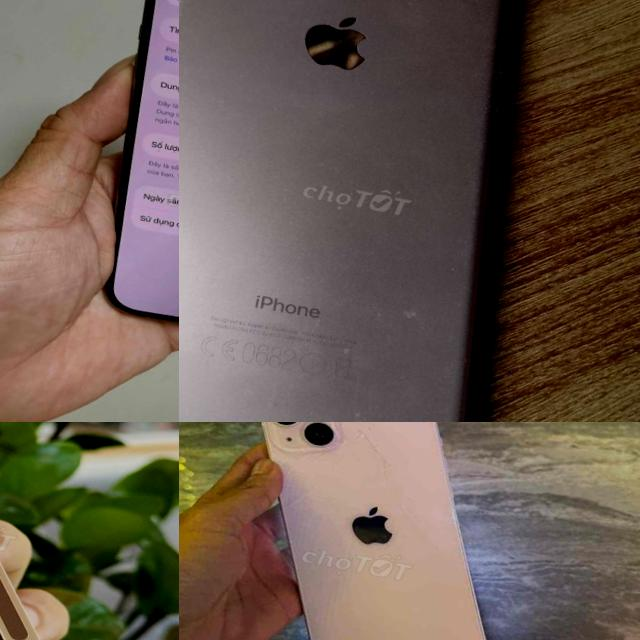gen_12_13: (214, 422, 536, 640), (0, 422, 179, 640)
gen_15: (70, 0, 179, 359)
gen_7_8: (179, 0, 563, 422)
physical_damage: (318, 542, 405, 588), (338, 422, 411, 470), (383, 501, 449, 537), (420, 531, 482, 567), (324, 594, 376, 636), (304, 510, 358, 546), (323, 569, 379, 602), (298, 484, 352, 516), (369, 468, 418, 502), (324, 461, 369, 492), (377, 621, 433, 640), (296, 626, 366, 640), (422, 626, 482, 640), (278, 498, 306, 524), (353, 629, 404, 640)
scratch: (334, 395, 393, 422), (394, 298, 426, 332), (332, 332, 357, 361), (251, 408, 293, 422), (399, 0, 424, 21), (446, 260, 464, 276), (450, 296, 468, 310), (420, 414, 440, 422)
